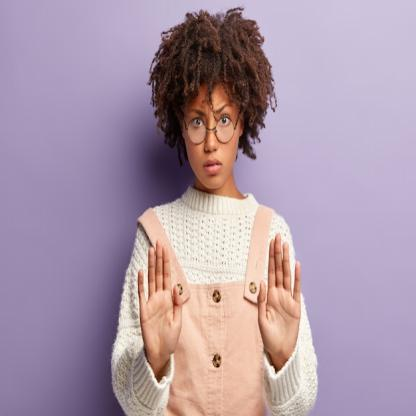stop: (256, 231, 305, 368), (134, 238, 184, 369)
